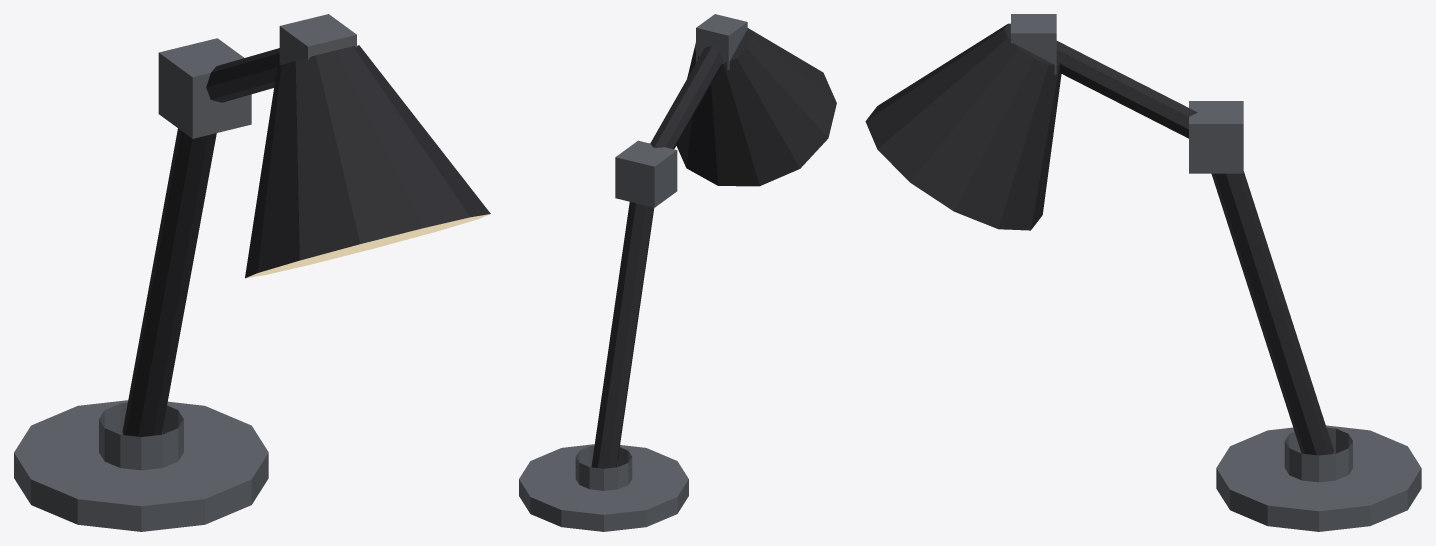
File: FN_Lamp_Desk.glb
3 views of the same model, side by side, from view 1: azimuth 30°, elevation 25°; view 2: azimuth 150°, elevation 25°; view 3: azimuth 270°, elevation 25° (orthographic). The views are drawn at different scales.
Parts seen in each view (by area): view 1: FN_Lamp_Desk; view 2: FN_Lamp_Desk; view 3: FN_Lamp_Desk.
Boxes of the visible parts, x1,y1,x2,y2 form: FN_Lamp_Desk: (14, 14, 490, 531); FN_Lamp_Desk: (519, 14, 836, 531); FN_Lamp_Desk: (865, 14, 1421, 531).
Bounding box in the file's own units: 0.18 × 0.45 × 0.4877.
Materials: 2 (2 with a texture image).
